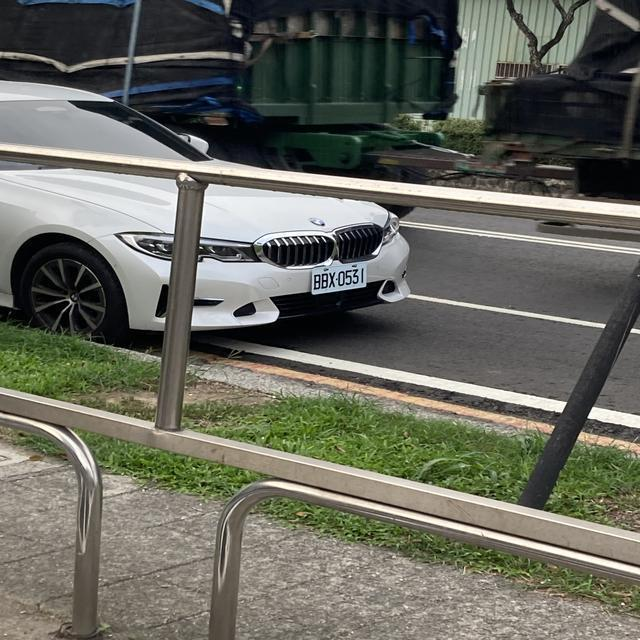plate: (309, 262, 368, 295)
